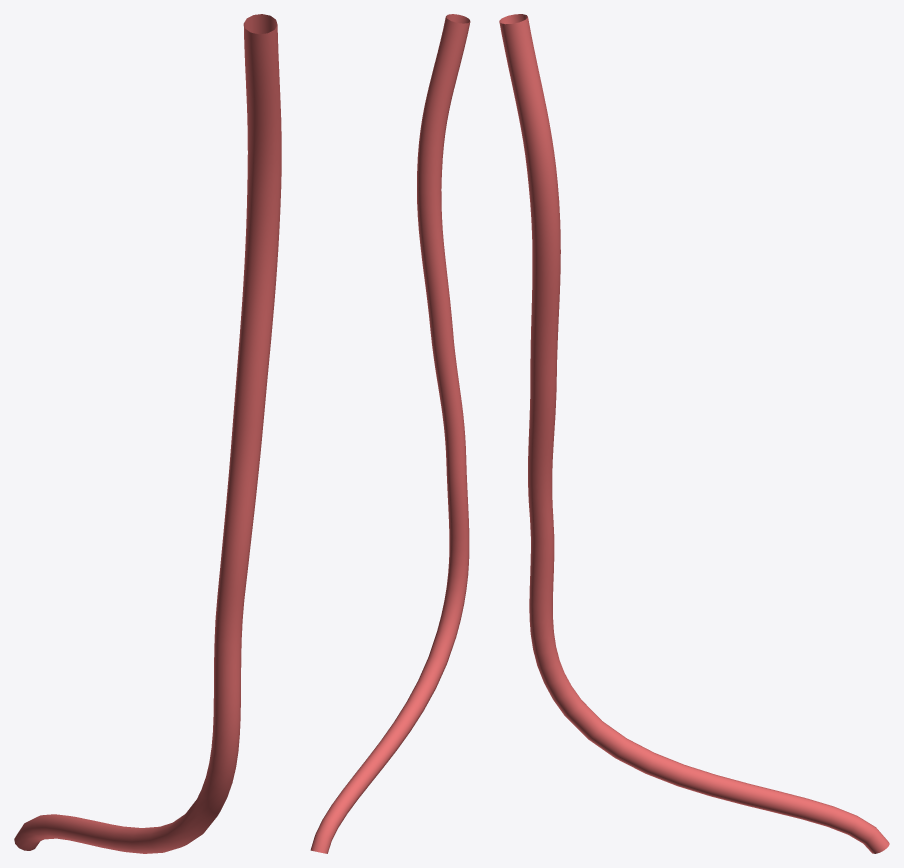
The model's file is Inferior_ulnar_collateral_artery.r_BezierCurve.162.glb.
3 renders of one model, left to right at view 1: azimuth 30°, elevation 25°; view 2: azimuth 150°, elevation 25°; view 3: azimuth 270°, elevation 25°, orthographic. The views are drawn at different scales.
Visible parts, largest first — view 1: Inferior_ulnar_collateral_artery.r_BezierCurve.162; view 2: Inferior_ulnar_collateral_artery.r_BezierCurve.162; view 3: Inferior_ulnar_collateral_artery.r_BezierCurve.162.
Boxes of the visible parts, x1,y1,x2,y2 form: Inferior_ulnar_collateral_artery.r_BezierCurve.162: (14,14,281,853); Inferior_ulnar_collateral_artery.r_BezierCurve.162: (310,14,470,853); Inferior_ulnar_collateral_artery.r_BezierCurve.162: (499,14,889,853).
Bounding box in the file's own units: 0.00469 × 0.0633 × 0.0265.
